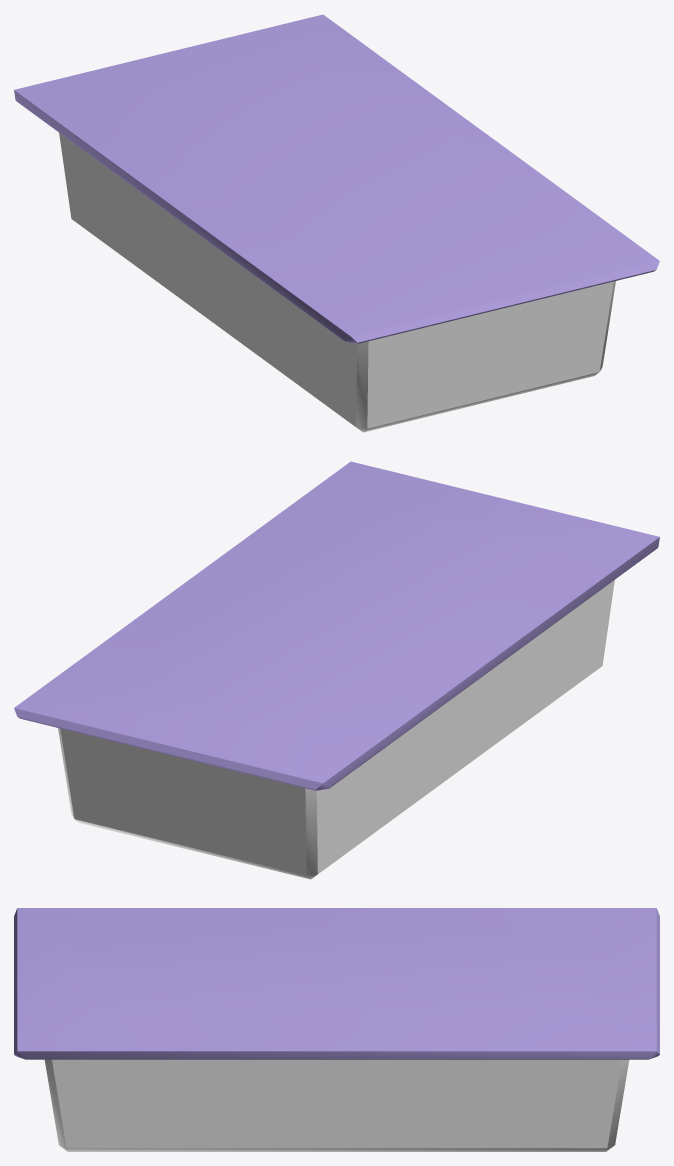
File: Danmooji_closed.fbx
3 renders of one model, top to bottom at view 1: azimuth 30°, elevation 25°; view 2: azimuth 150°, elevation 25°; view 3: azimuth 270°, elevation 25°, orthographic. The views are drawn at different scales.
Parts seen in each view (by area): view 1: danmuji_unopened; view 2: danmuji_unopened; view 3: danmuji_unopened.
Boxes of the visible parts, x1,y1,x2,y2 form: danmuji_unopened: (14,14,659,432); danmuji_unopened: (14,461,659,879); danmuji_unopened: (14,908,659,1151).
Bounding box in the file's own units: 13.31 × 5.41 × 25.
